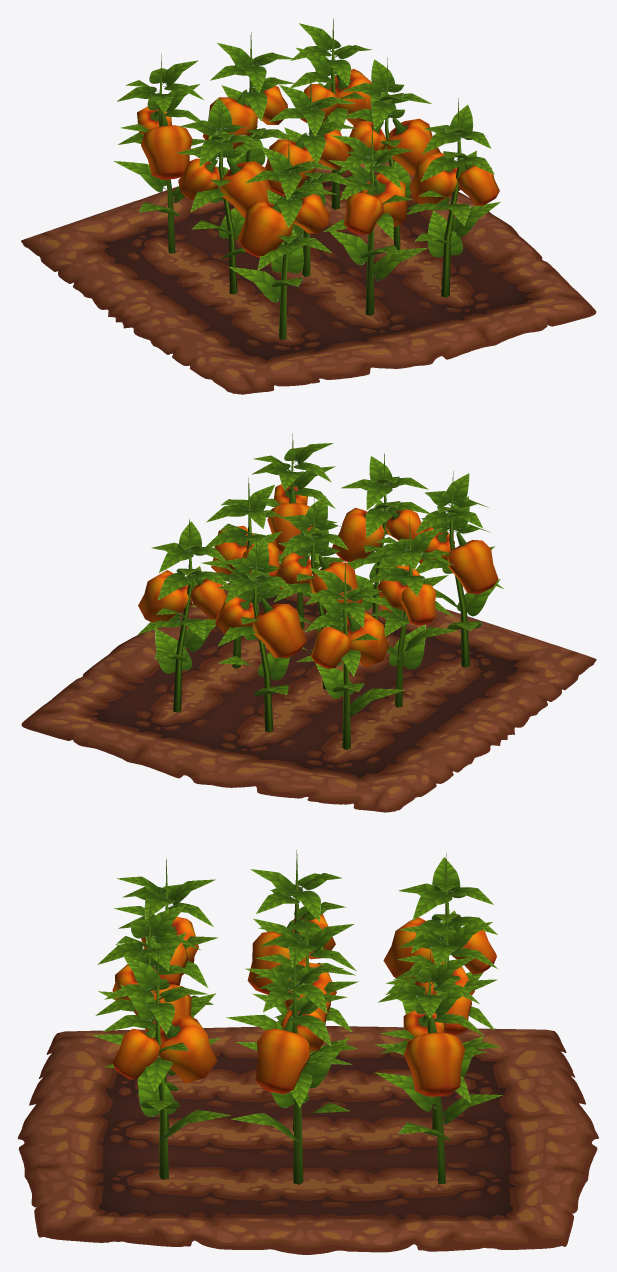
Rendered from BellPepper_Field_Orange_Lv3.FBX.
3 renders of one model, top to bottom at view 1: azimuth 30°, elevation 25°; view 2: azimuth 150°, elevation 25°; view 3: azimuth 270°, elevation 25°, orthographic. The views are drawn at different scales.
Parts seen in each view (by area): view 1: BellPepper_Field_Orange_Lv3; view 2: BellPepper_Field_Orange_Lv3; view 3: BellPepper_Field_Orange_Lv3.
Boxes of the visible parts, box(x1,y1,x2,y2) form: BellPepper_Field_Orange_Lv3: box(21, 18, 596, 394); BellPepper_Field_Orange_Lv3: box(21, 433, 596, 812); BellPepper_Field_Orange_Lv3: box(17, 850, 598, 1254).
Bounding box in the file's own units: 274 × 134 × 296.
